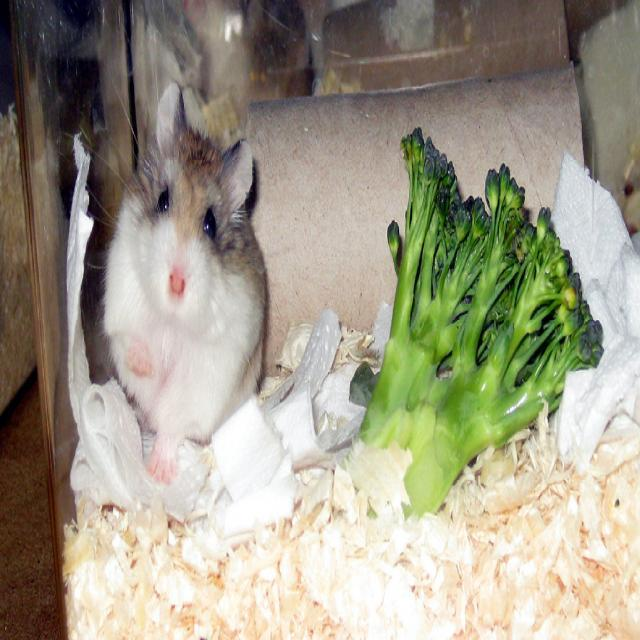rat: (100, 75, 268, 484)
